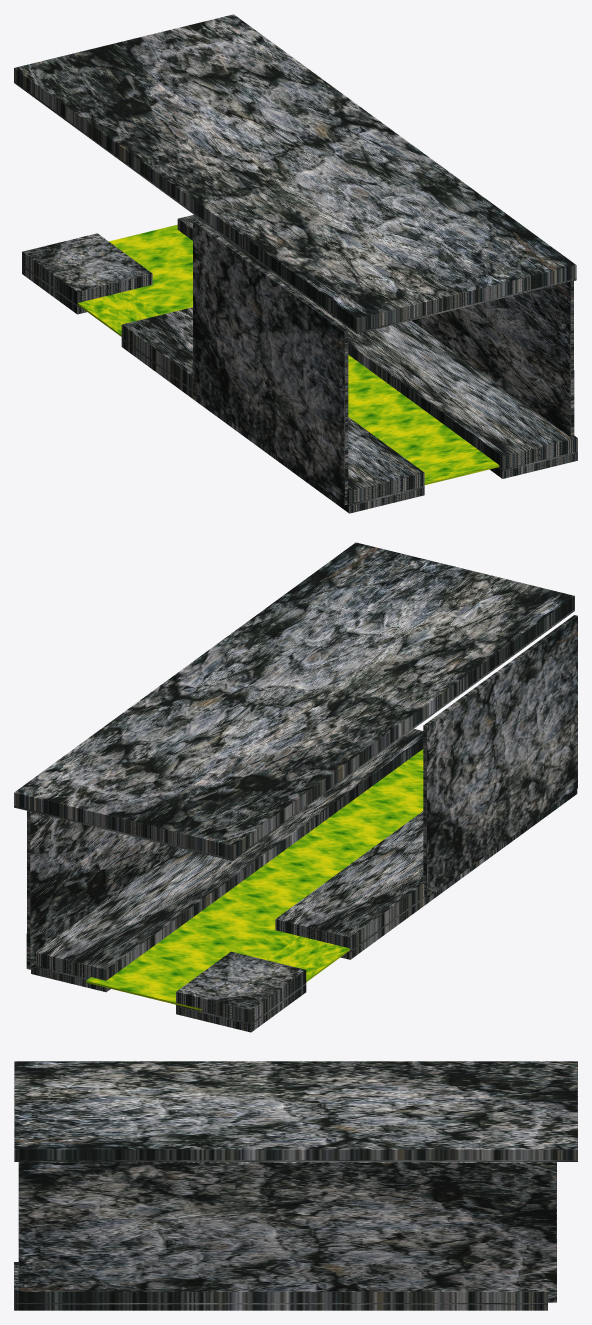
The model's file is level right corner.fbx.
3 renders of one model, top to bottom at view 1: azimuth 30°, elevation 25°; view 2: azimuth 150°, elevation 25°; view 3: azimuth 270°, elevation 25°, orthographic. The views are drawn at different scales.
Visible parts, largest first — view 1: ceiling, wall 1, path 3, acid, wall 3, path 2, path 1; view 2: ceiling, wall 1, acid, path 3, path 2, wall 3, path 1; view 3: wall 3, ceiling, path 3.
Boxes of the visible parts, bbox=[...] form: ceiling: bbox=[14, 14, 576, 333]; wall 1: bbox=[193, 220, 348, 504]; path 3: bbox=[177, 215, 577, 478]; acid: bbox=[77, 224, 499, 484]; wall 3: bbox=[412, 281, 574, 437]; path 2: bbox=[121, 307, 424, 513]; path 1: bbox=[22, 233, 152, 314]; ceiling: bbox=[14, 542, 574, 860]; wall 1: bbox=[423, 615, 577, 898]; acid: bbox=[86, 749, 423, 1010]; path 3: bbox=[31, 729, 423, 992]; path 2: bbox=[275, 789, 577, 959]; wall 3: bbox=[26, 811, 178, 969]; path 1: bbox=[176, 951, 306, 1032]; wall 3: bbox=[18, 1162, 556, 1302]; ceiling: bbox=[14, 1061, 577, 1161]; path 3: bbox=[14, 1262, 547, 1310].
Size of the model in its own units: 3776 by 3087 by 9824.
Materials: 2 (2 with a texture image).
